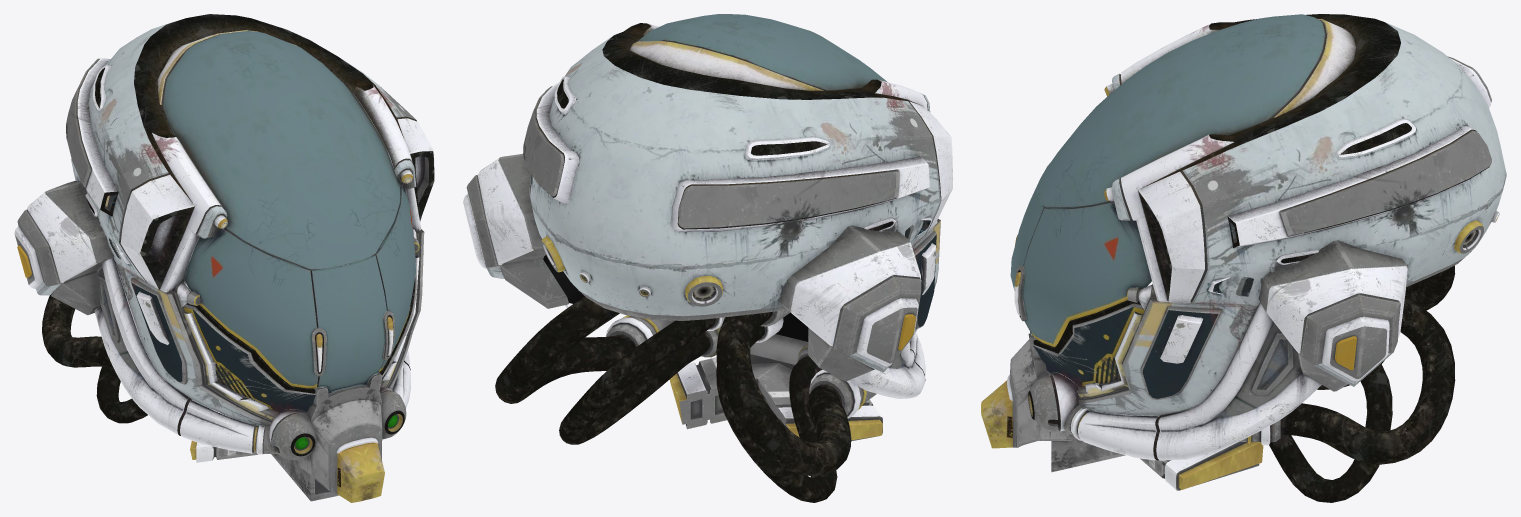
File: DamagedHelmet.glb
The picture shows the model from 3 angles, left to right: view 1: azimuth 30°, elevation 25°; view 2: azimuth 150°, elevation 25°; view 3: azimuth 270°, elevation 25°; orthographic projection. The views are drawn at different scales.
Parts seen in each view (by area): view 1: node_damagedHelmet_-6514; view 2: node_damagedHelmet_-6514; view 3: node_damagedHelmet_-6514.
Part boxes in pixels (x1=…): node_damagedHelmet_-6514: x1=14, y1=14, x2=434, y2=502; node_damagedHelmet_-6514: x1=463, y1=14, x2=952, y2=502; node_damagedHelmet_-6514: x1=981, y1=14, x2=1506, y2=502.
Size of the model in its own units: 1.89 by 1.8 by 2.
1 material, 1 textured.
